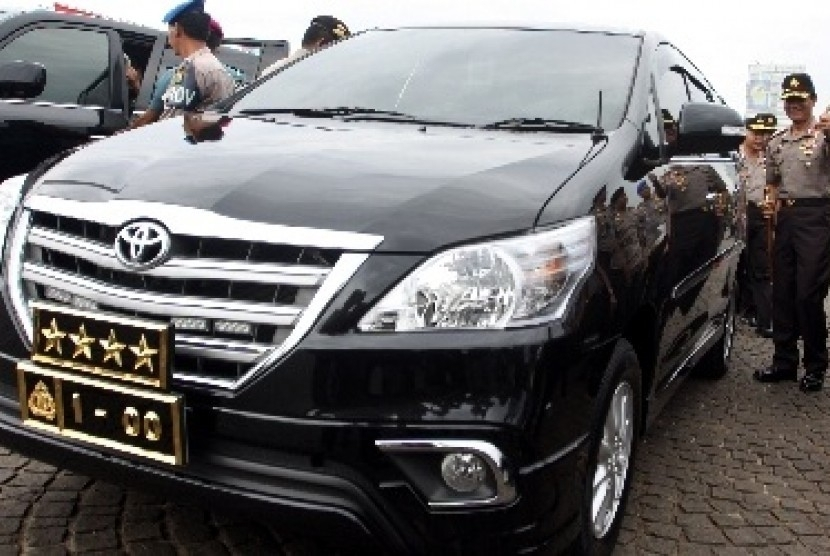plate: (20, 363, 179, 464)
